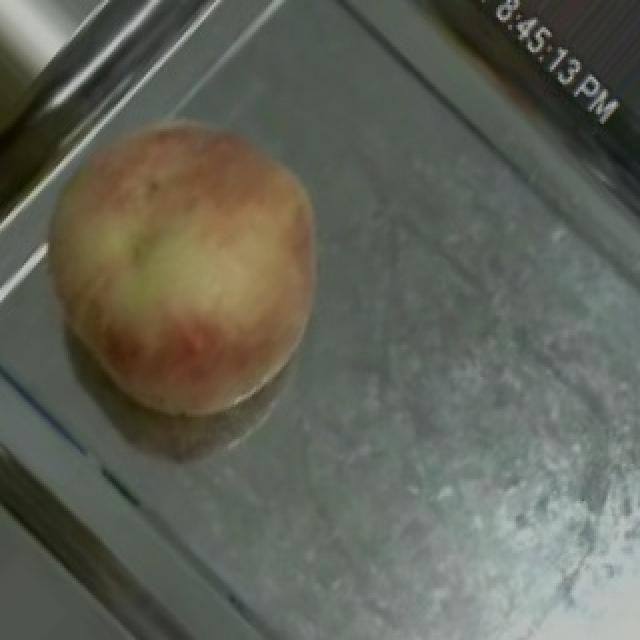Fruit: (6, 67, 366, 484)
